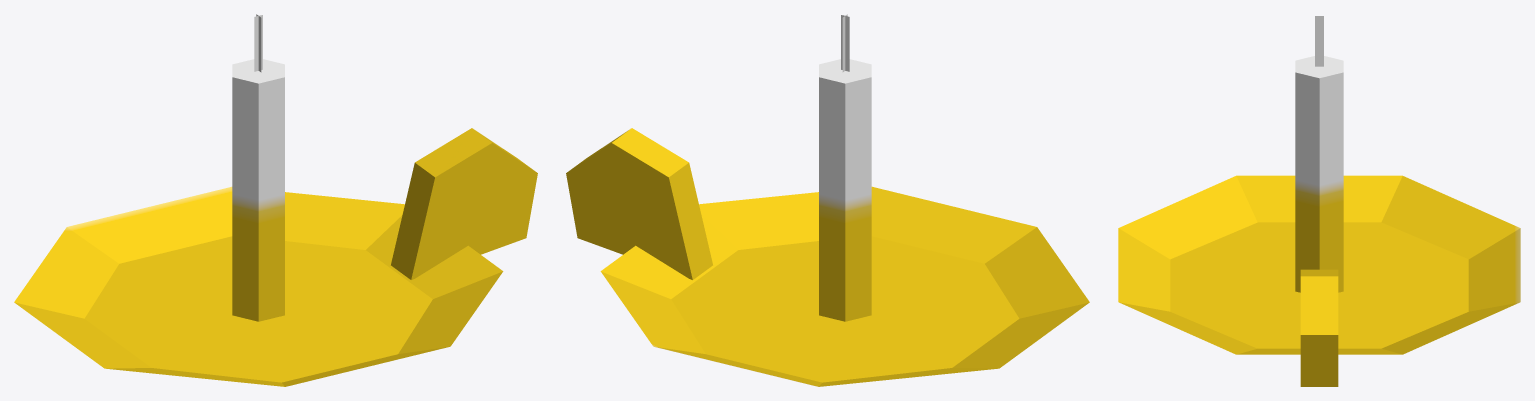
Rendered from candleSingle_Plate.fbx.
The picture shows the model from 3 angles, left to right: view 1: azimuth 30°, elevation 25°; view 2: azimuth 150°, elevation 25°; view 3: azimuth 270°, elevation 25°; orthographic projection. The views are drawn at different scales.
Parts seen in each view (by area): view 1: candleSingle_Plate, handle, cande1; view 2: candleSingle_Plate, handle, cande1; view 3: candleSingle_Plate, cande1, handle.
Boxes of the visible parts, left/top/right/bottom form: candleSingle_Plate: left=14, top=186, right=503, bottom=386; handle: left=391, top=128, right=537, bottom=279; cande1: left=232, top=14, right=284, bottom=321; candleSingle_Plate: left=600, top=186, right=1089, bottom=386; handle: left=566, top=128, right=712, bottom=279; cande1: left=819, top=14, right=871, bottom=321; candleSingle_Plate: left=1118, top=175, right=1520, bottom=354; cande1: left=1295, top=16, right=1343, bottom=292; handle: left=1300, top=269, right=1338, bottom=386.
Size of the model in its own units: 84.67 by 50.62 by 68.42.
